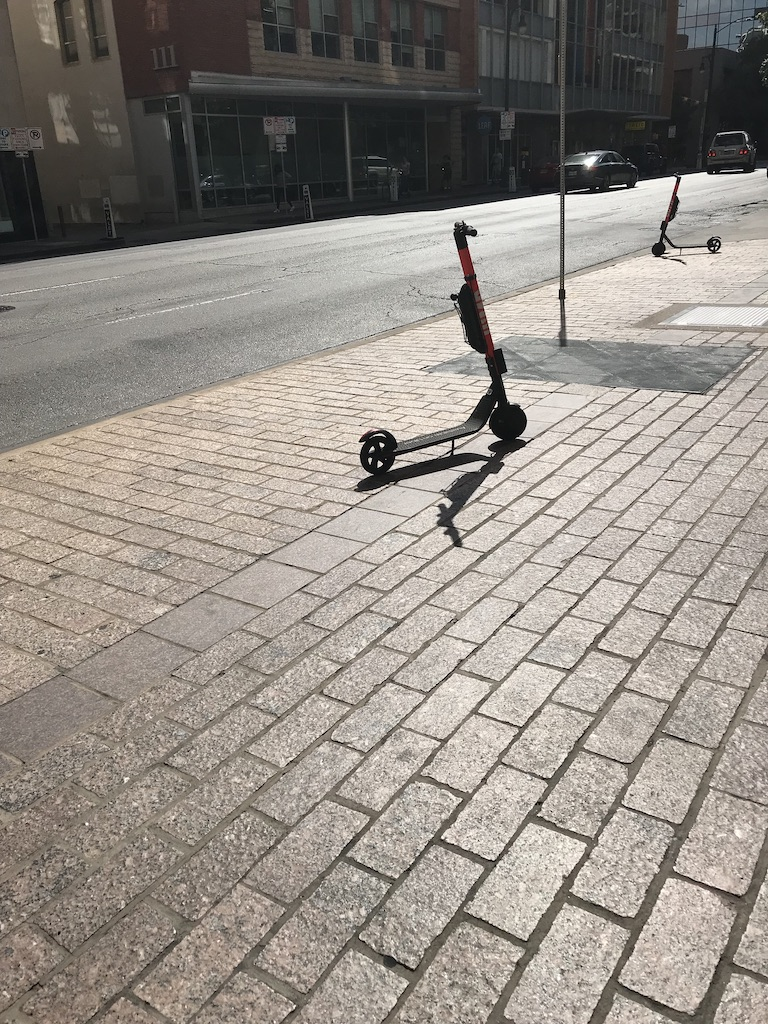scooter: (360, 221, 530, 473), (651, 172, 721, 257)
